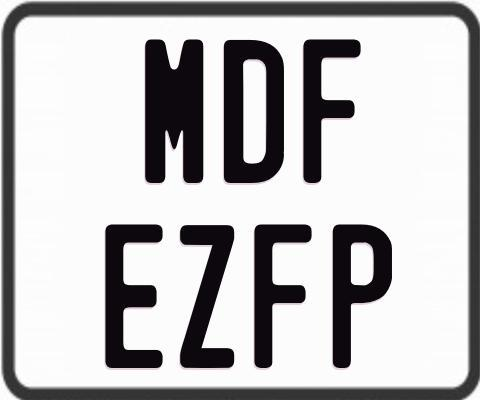D: (222, 38, 288, 185)
E: (102, 221, 165, 371)
F: (253, 221, 316, 368), (302, 38, 361, 185)
M: (143, 37, 206, 181)
P: (332, 224, 395, 369)
Z: (180, 225, 237, 370)
